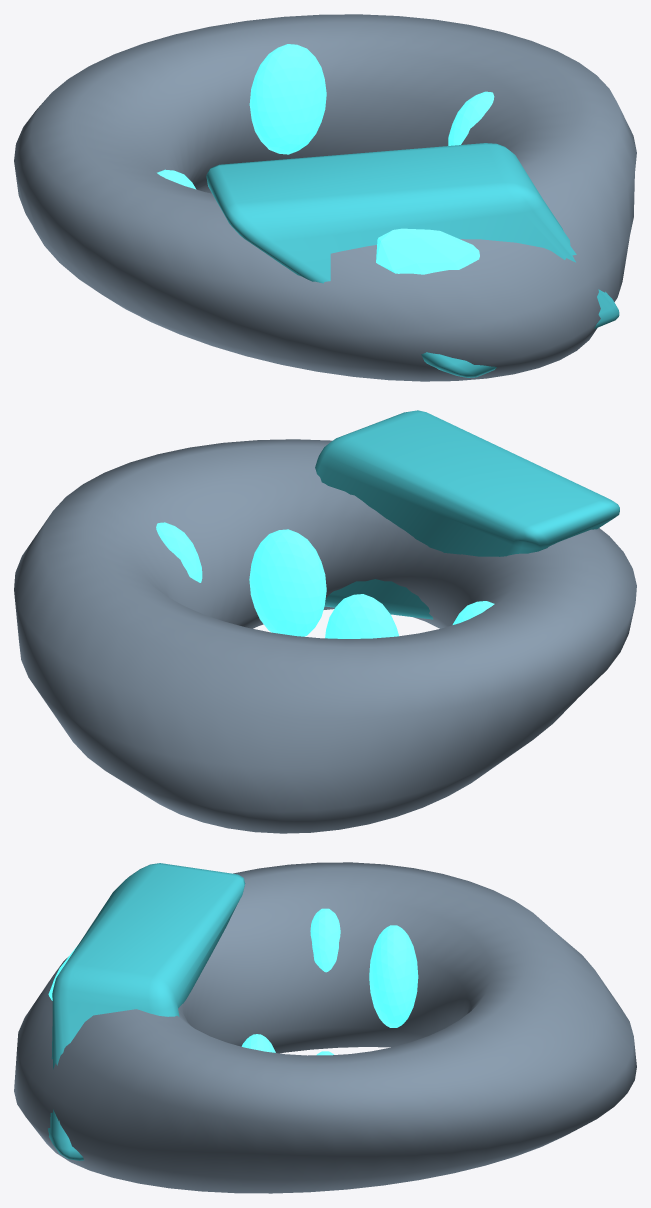
The model's file is bracelet_v8.glb.
3 renders of one model, top to bottom at view 1: azimuth 30°, elevation 25°; view 2: azimuth 150°, elevation 25°; view 3: azimuth 270°, elevation 25°, orthographic. The views are drawn at different scales.
Visible parts, largest first — view 1: SOLID_CUFF_PRIMARY, CUFF_FACE_ACCENT, ASCENDANT_GEM_EMISSIVE.001, CUFF_SEAL_EMISSIVE, ASCENDANT_GEM_EMISSIVE; view 2: SOLID_CUFF_PRIMARY, CUFF_FACE_ACCENT, ASCENDANT_GEM_EMISSIVE.001, ASCENDANT_GEM_EMISSIVE.003, ASCENDANT_GEM_EMISSIVE; view 3: SOLID_CUFF_PRIMARY, CUFF_FACE_ACCENT, ASCENDANT_GEM_EMISSIVE.001, ASCENDANT_GEM_EMISSIVE.002.
Boxes of the visible parts, bbox=[...] form: SOLID_CUFF_PRIMARY: bbox=[14, 14, 636, 381]; CUFF_FACE_ACCENT: bbox=[206, 143, 619, 377]; ASCENDANT_GEM_EMISSIVE.001: bbox=[249, 44, 326, 154]; CUFF_SEAL_EMISSIVE: bbox=[376, 228, 479, 274]; ASCENDANT_GEM_EMISSIVE: bbox=[448, 91, 494, 145]; SOLID_CUFF_PRIMARY: bbox=[14, 439, 636, 833]; CUFF_FACE_ACCENT: bbox=[315, 410, 619, 619]; ASCENDANT_GEM_EMISSIVE.001: bbox=[249, 529, 326, 636]; ASCENDANT_GEM_EMISSIVE.003: bbox=[325, 594, 398, 638]; ASCENDANT_GEM_EMISSIVE: bbox=[156, 522, 202, 582]; SOLID_CUFF_PRIMARY: bbox=[14, 862, 636, 1193]; CUFF_FACE_ACCENT: bbox=[48, 863, 245, 1160]; ASCENDANT_GEM_EMISSIVE.001: bbox=[369, 925, 418, 1027]; ASCENDANT_GEM_EMISSIVE.002: bbox=[310, 908, 340, 972].
Size of the model in its own units: 2.09 by 0.84 by 2.28.
